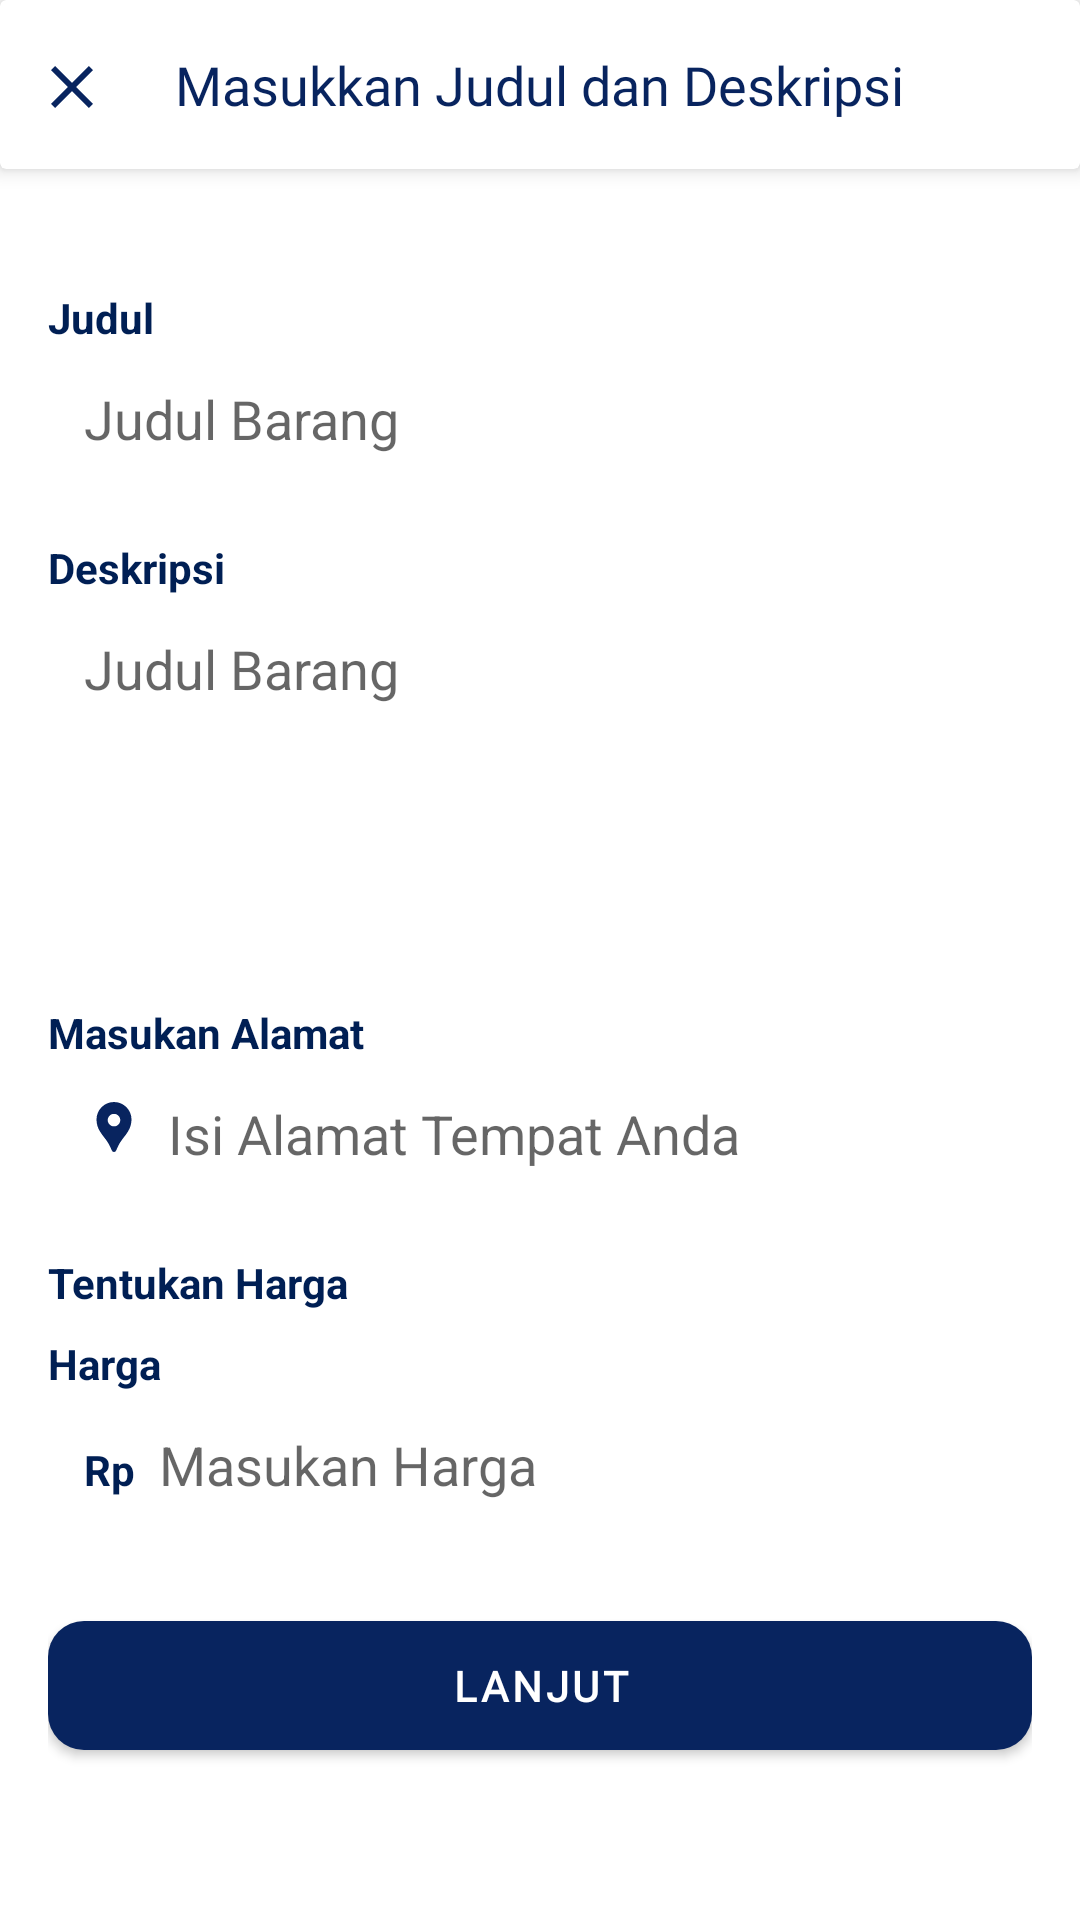

Icon bounding boxes for this 1080 x 1920 phone screenshot, format (x1, y1, x2, y2):
location: (96, 1102, 132, 1152)
Tutup: (51, 66, 93, 108)
